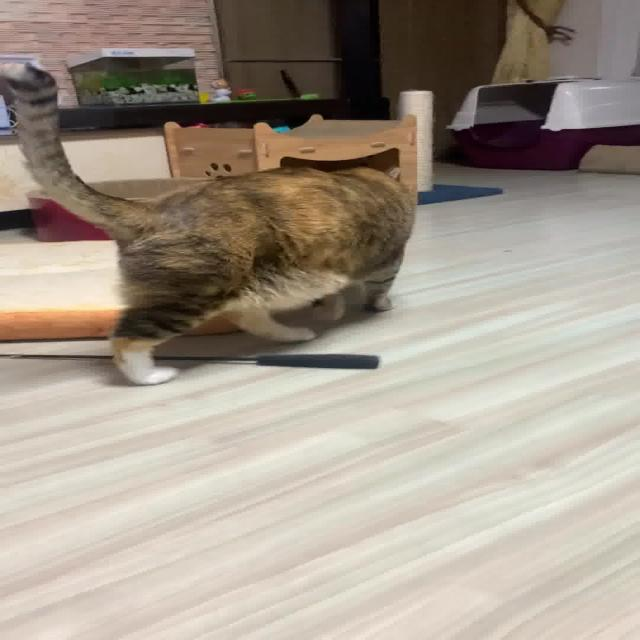cat: (0, 52, 428, 381)
